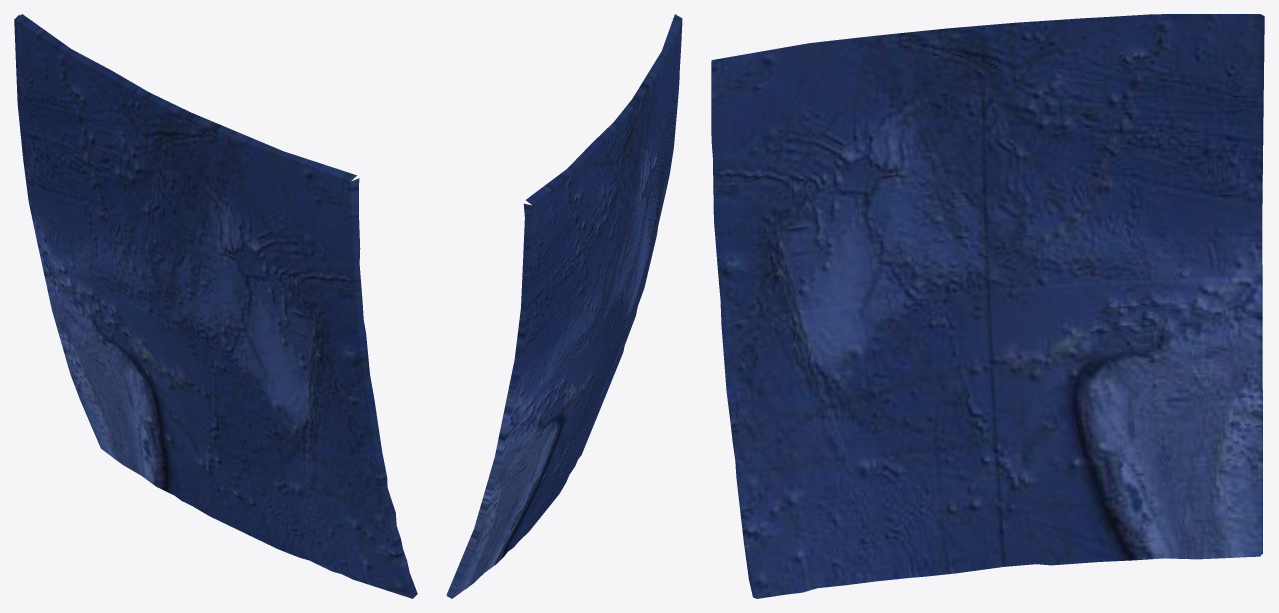
3 views of the same model, side by side, from view 1: azimuth 30°, elevation 25°; view 2: azimuth 150°, elevation 25°; view 3: azimuth 270°, elevation 25° (orthographic). The views are drawn at different scales.
Size of the model in its own units: 973603 by 2456605 by 2467912.
1 material, 1 textured.
